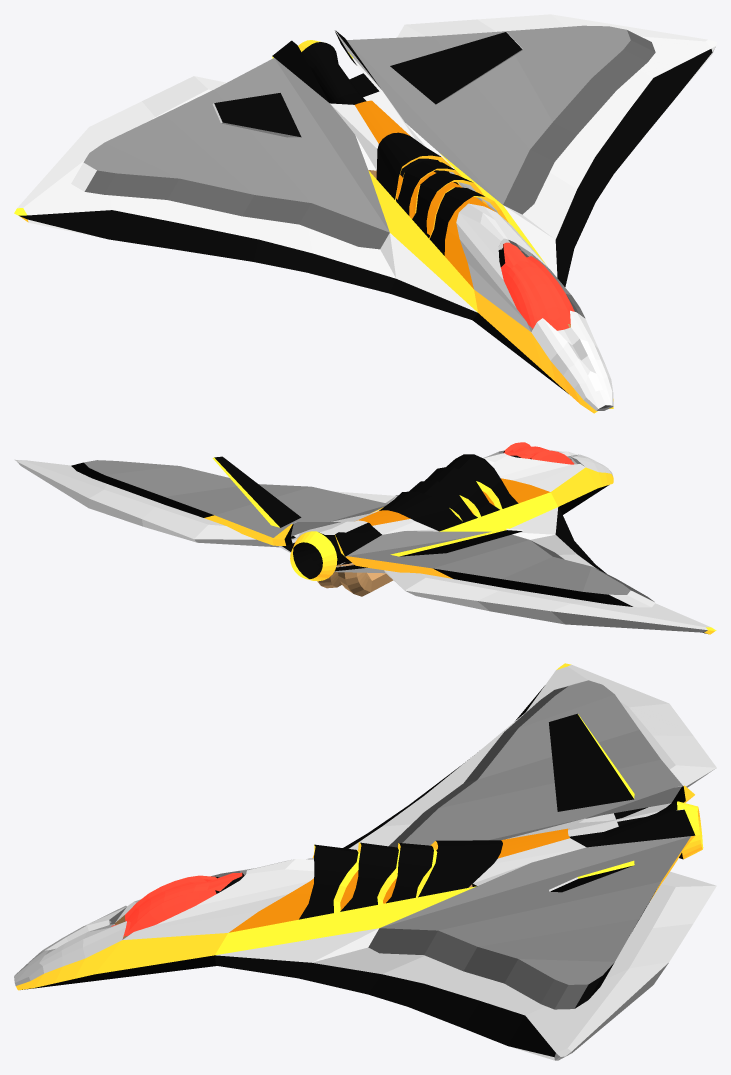
Rendered from Ship03.fbx.
The picture shows the model from 3 angles, top to bottom: view 1: azimuth 30°, elevation 25°; view 2: azimuth 150°, elevation 25°; view 3: azimuth 270°, elevation 25°; orthographic projection. The views are drawn at different scales.
Visible parts, largest first — view 1: Cube; view 2: Cube, Cylinder; view 3: Cube.
Boxes of the visible parts, x1,y1,x2,y2 form: Cube: (14,14,716,413); Cube: (14,442,716,634); Cylinder: (317,530,437,596); Cube: (14,663,716,1060).
Bounding box in the file's own units: 10.97 × 2.46 × 8.29.
